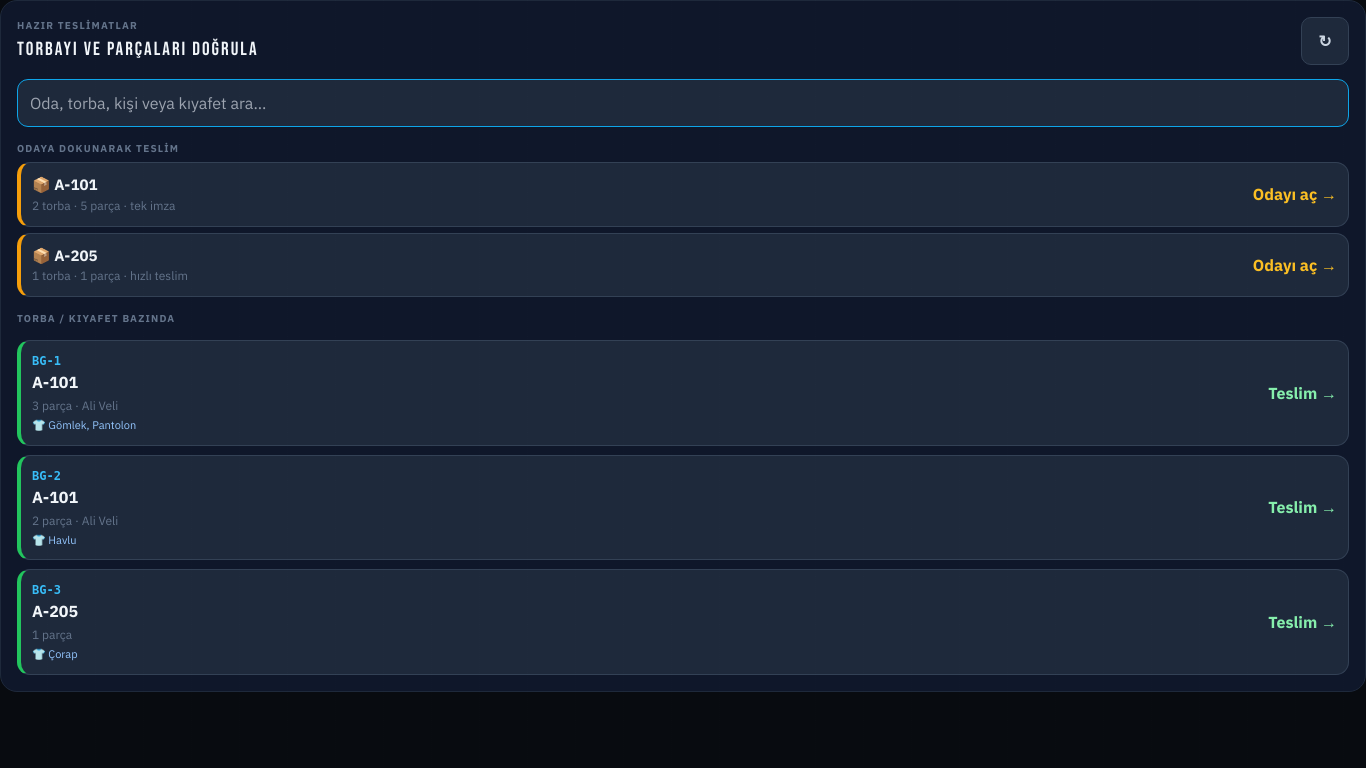
oda bazlı toplu teslim › toplu teslim tek isim ile deliver-room ucuna gider
Check: the text "ODAYA DOKUNARAK TESLİM" is shown, box [17,142,179,155]
Step 1. Click the button "📦 A-101 2 torba · 5 parça · tek imza Odayı aç →" → (60, 205), box [17,162,1349,226]
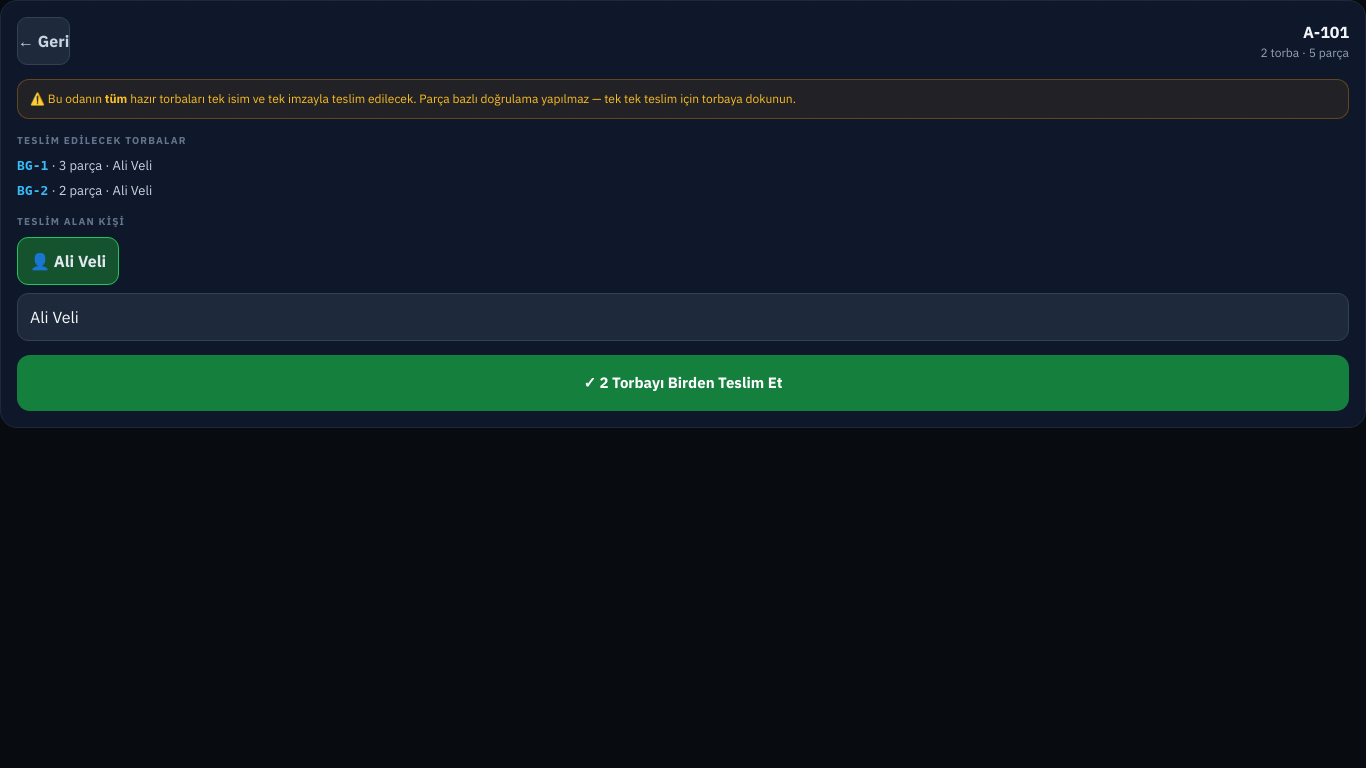
Check: the text "TESLİM EDİLECEK TORBALAR" is shown, box [17,134,187,147]
Check: the field showing "Ali Veli" is shown, box [17,293,1349,341]
Step 2. Click the button "✓ 2 Torbayı Birden Teslim Et" → (683, 383), box [17,355,1349,411]
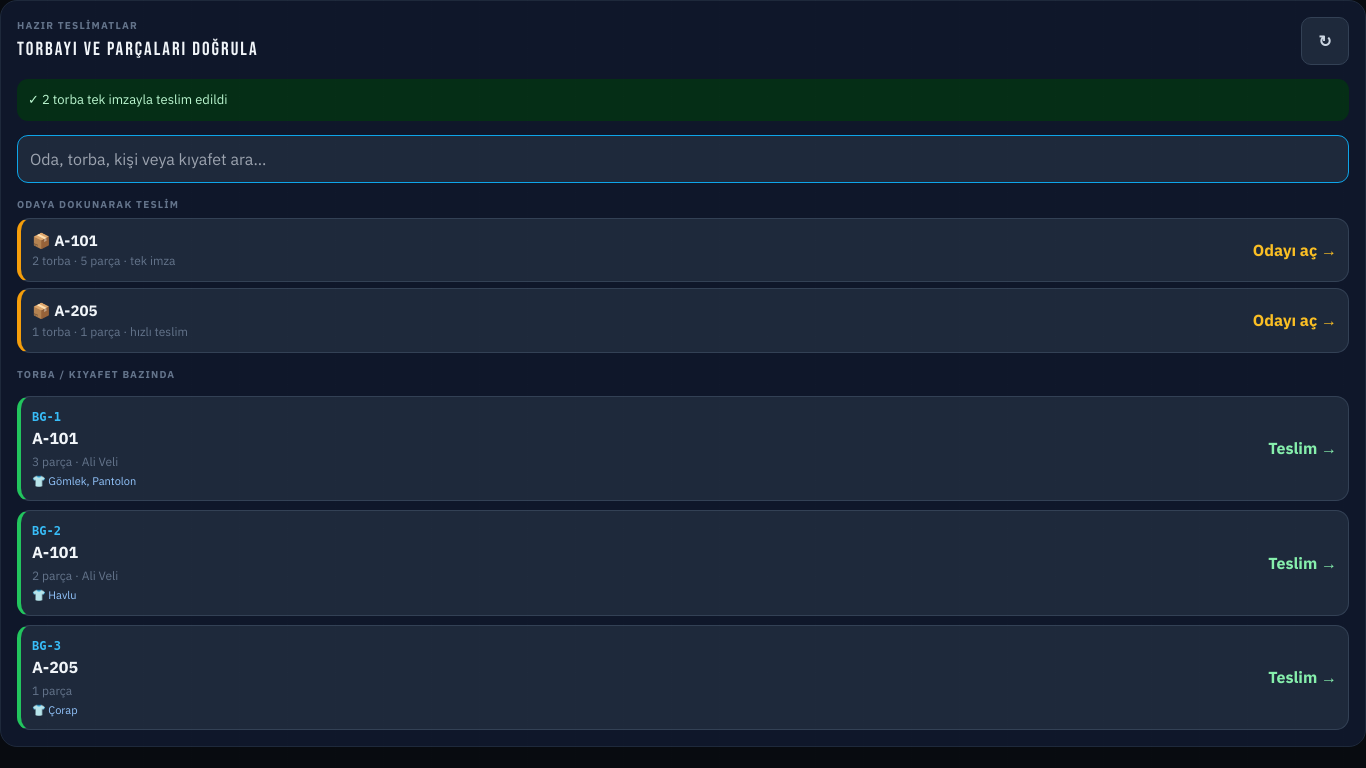
Check: the text "✓ 2 torba tek imzayla teslim edildi" is shown, box [17,79,1349,120]
